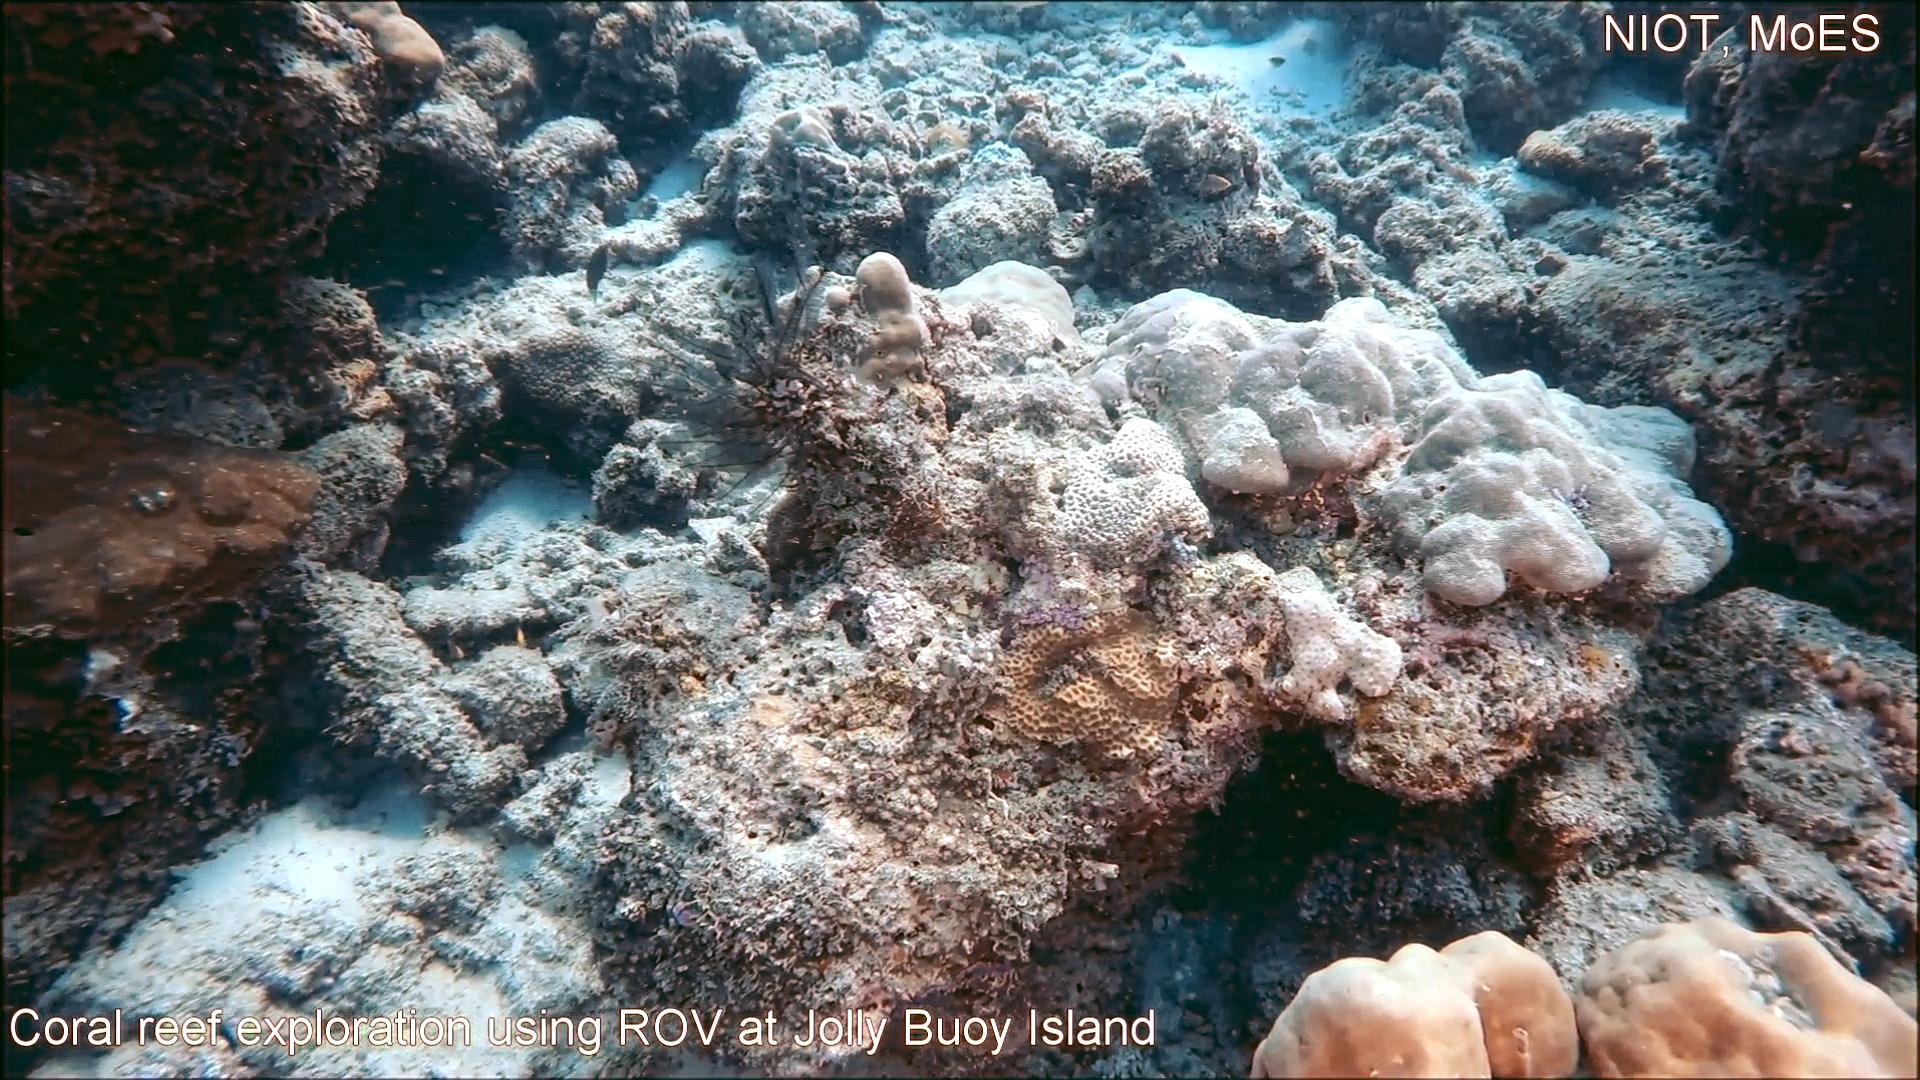Feather star-Crinoid star: (608, 198, 843, 522)
Goniastrea-Goniastrea pectinata: (1056, 410, 1220, 576)
Porites-Porites pukoensis: (1300, 294, 1739, 611)
Turbinaria-Turbinaria stellulata: (498, 322, 649, 423)
